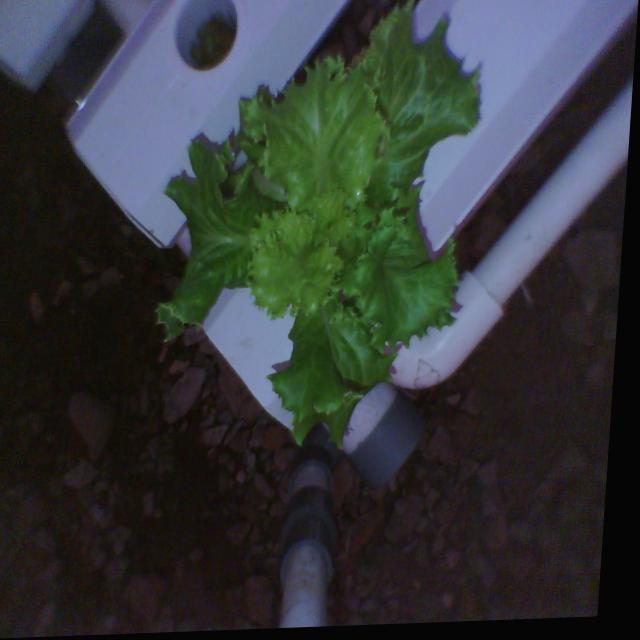FN: (136, 0, 501, 465)
